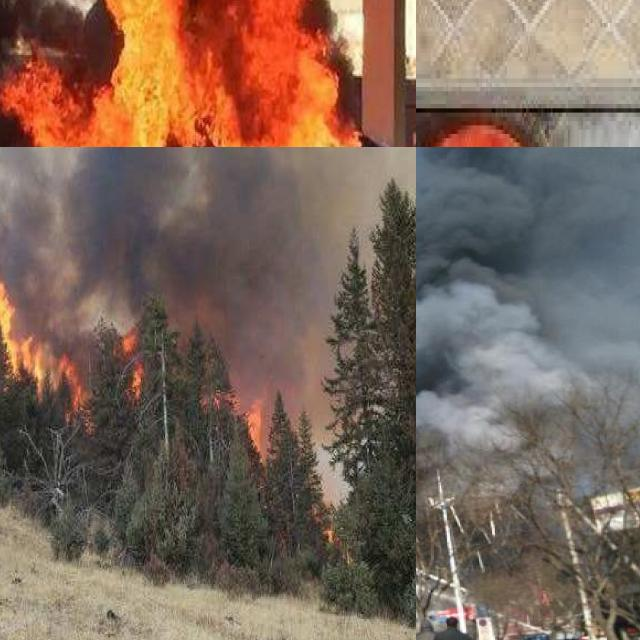fire: (0, 0, 383, 147), (0, 282, 145, 429), (213, 380, 270, 460), (324, 521, 342, 548)
smoke: (0, 147, 416, 422), (416, 147, 640, 561), (0, 0, 123, 91)
